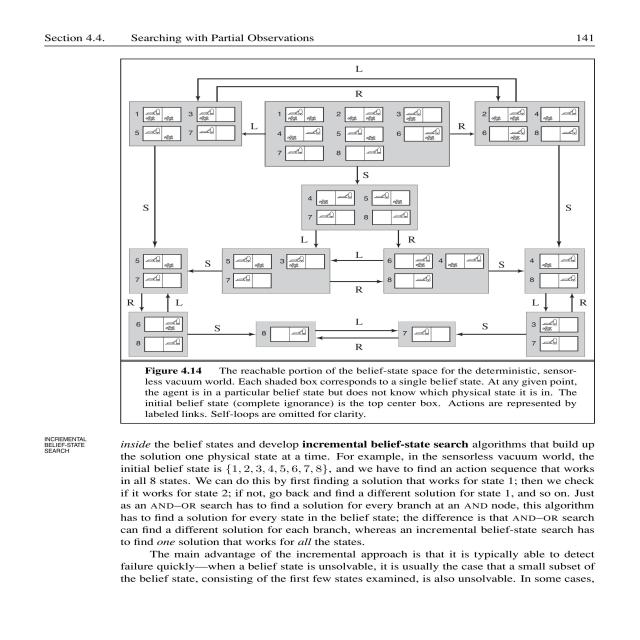diagram: (116, 58, 594, 422)
